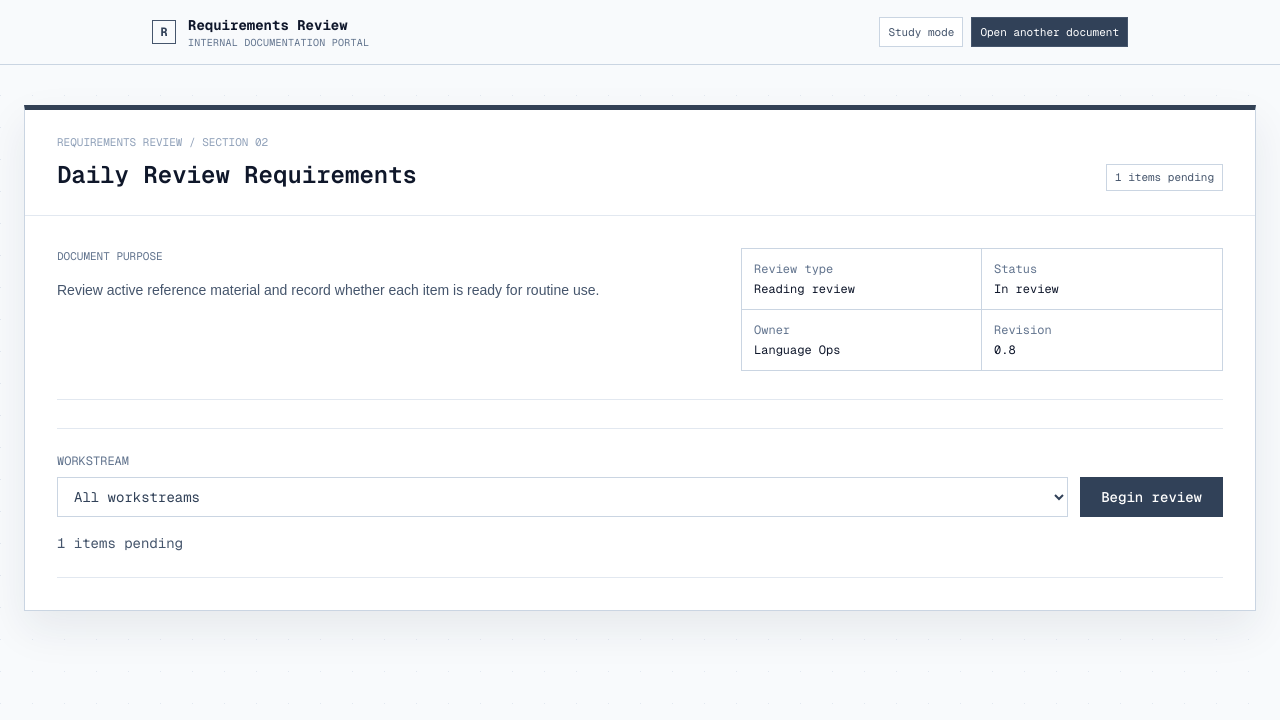
reading review work mode › keeps the document shell English while preserving the original knowledge point
Click the button "Begin review" at (1152, 496), box [1080, 476, 1223, 516]
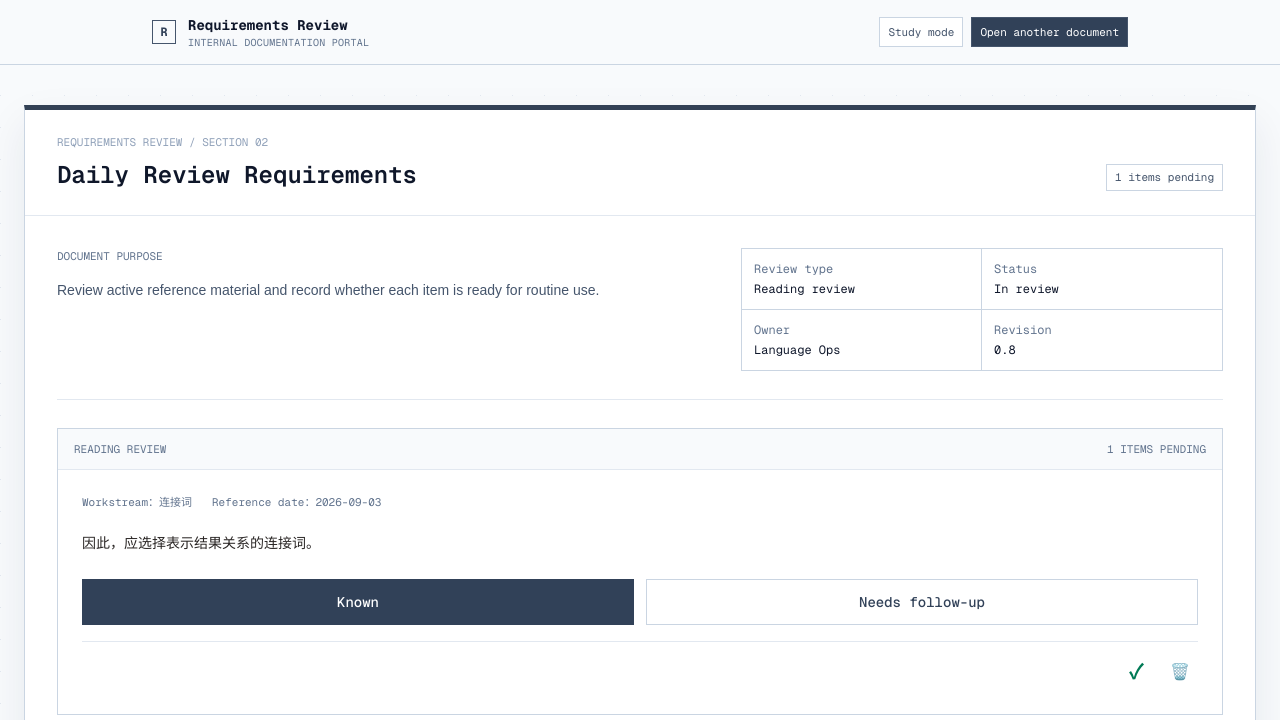
Check: the text "因此，应选择表示结果关系的连接词。" is shown, box [82, 534, 320, 550]
Check: the text "Known" is shown
Check: the text "Needs follow-up" is shown, box [646, 578, 1198, 624]
Click the button "Known" at (358, 602), box [82, 578, 634, 624]
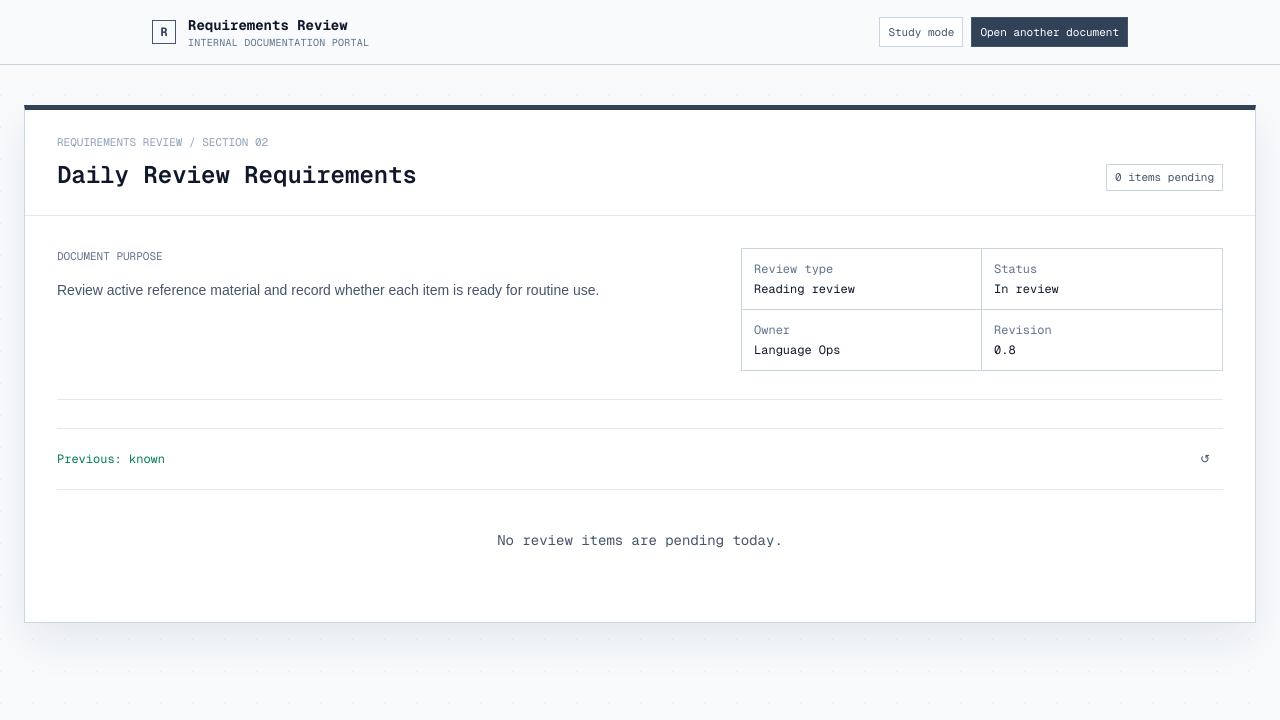
Check: the text "Previous: known" is shown, box [57, 450, 165, 466]
